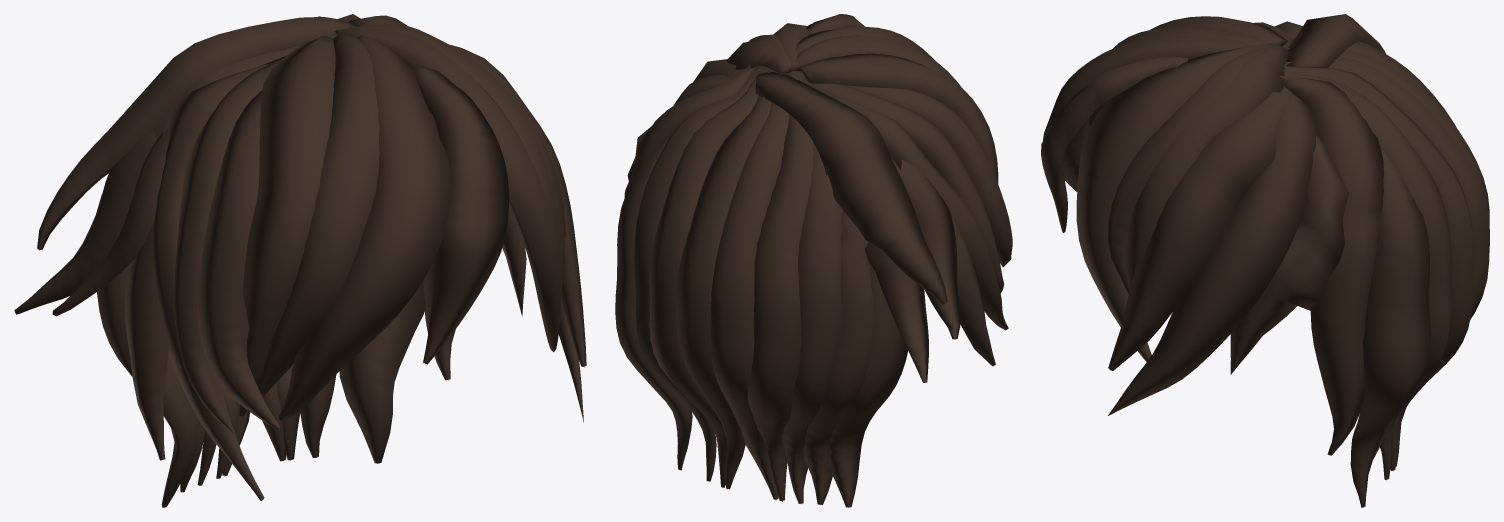
Rendered from hair_sidepart_female.glb.
3 views of the same model, side by side, from view 1: azimuth 30°, elevation 25°; view 2: azimuth 150°, elevation 25°; view 3: azimuth 270°, elevation 25° (orthographic). The views are drawn at different scales.
Parts seen in each view (by area): view 1: hair_sidepart_female; view 2: hair_sidepart_female; view 3: hair_sidepart_female.
Boxes of the visible parts, bbox=[...] form: hair_sidepart_female: bbox=[14, 14, 586, 507]; hair_sidepart_female: bbox=[615, 14, 1012, 507]; hair_sidepart_female: bbox=[1041, 14, 1489, 507].
Size of the model in its own units: 0.2054 by 0.2292 by 0.2152.
